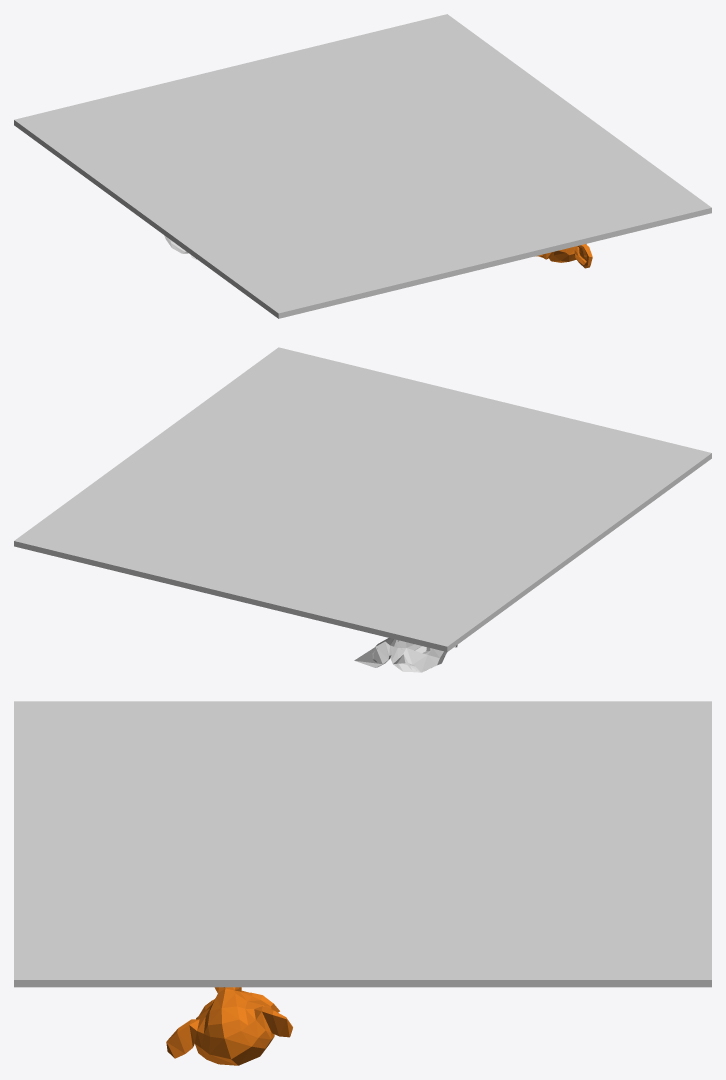
File: apina2.gltf
3 renders of one model, top to bottom at view 1: azimuth 30°, elevation 25°; view 2: azimuth 150°, elevation 25°; view 3: azimuth 270°, elevation 25°, orthographic. The views are drawn at different scales.
Visible parts, largest first — view 1: Ground, Suzanne 2; view 2: Ground, Suzanne 3; view 3: Ground, Suzanne 2.
Boxes of the visible parts, x1,y1,x2,y2 form: Ground: (14,14,711,318); Suzanne 2: (536,244,592,268); Ground: (14,347,711,651); Suzanne 3: (354,638,457,672); Ground: (14,701,711,987); Suzanne 2: (166,987,292,1065).
Bounding box in the file's own units: 132 × 30.08 × 140.
